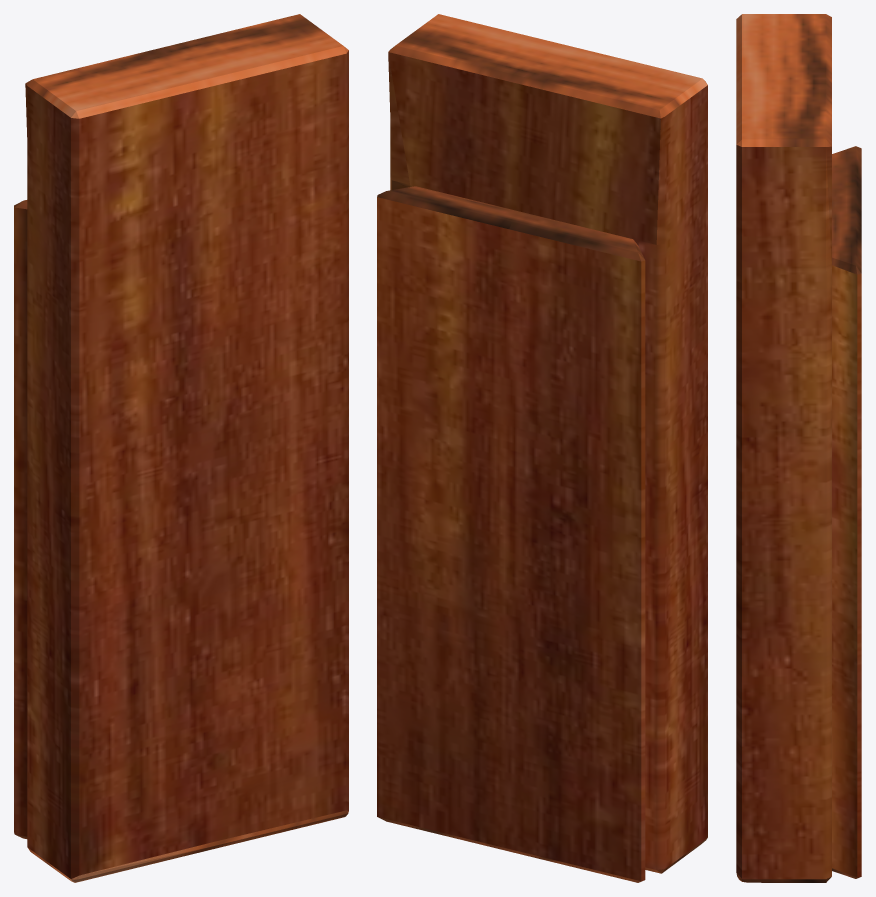
The model's file is baxianzhuo_J_huasuni_03.FBX.
3 renders of one model, left to right at view 1: azimuth 30°, elevation 25°; view 2: azimuth 150°, elevation 25°; view 3: azimuth 270°, elevation 25°, orthographic. The views are drawn at different scales.
Visible parts, largest first — view 1: baxianzhuo_J_huasuni_03; view 2: baxianzhuo_J_huasuni_03; view 3: baxianzhuo_J_huasuni_03.
Part boxes in pixels (x1,y1,x2,y2): baxianzhuo_J_huasuni_03: (14, 14, 348, 882); baxianzhuo_J_huasuni_03: (377, 14, 707, 882); baxianzhuo_J_huasuni_03: (736, 14, 861, 882).
Size of the model in its own units: 3.2 by 8.5 by 1.3.
